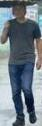boots: (12, 117, 25, 126), (28, 111, 37, 122)
hard-hat: (0, 0, 8, 7)
